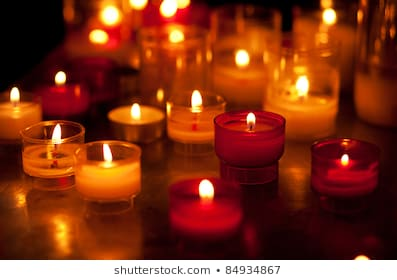Fire: (99, 6, 123, 25), (87, 28, 110, 46), (189, 88, 205, 113), (196, 178, 215, 199), (322, 7, 340, 27), (124, 105, 146, 121), (235, 49, 251, 71), (296, 74, 310, 97), (53, 67, 68, 87), (100, 142, 114, 161), (52, 124, 62, 146), (9, 87, 23, 101)
